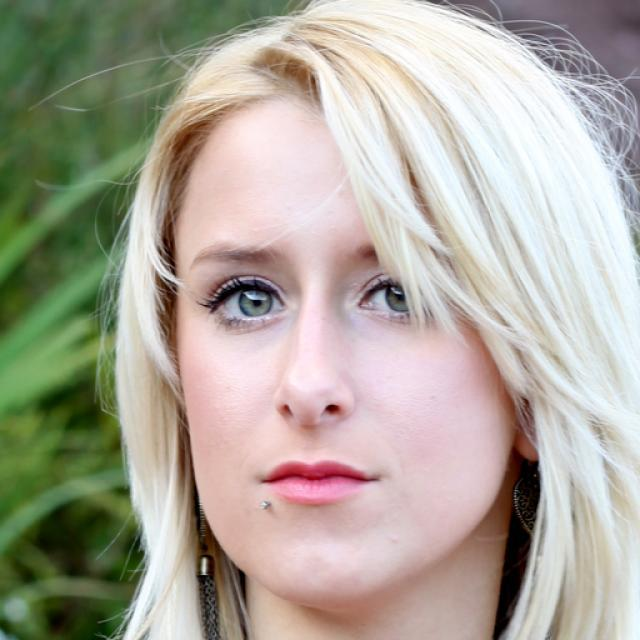sad: (176, 85, 516, 599)
